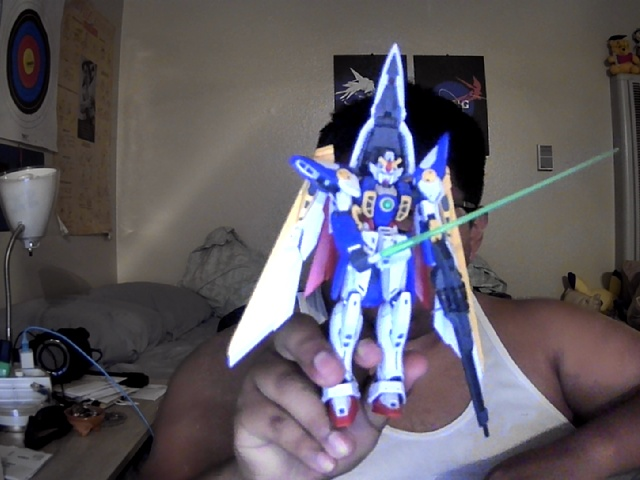Wing-01: (226, 44, 619, 436)
